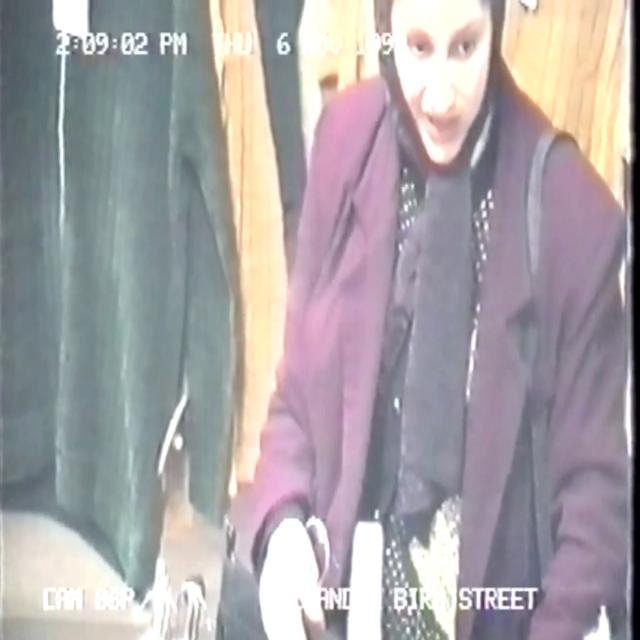normal: (165, 0, 636, 640)
